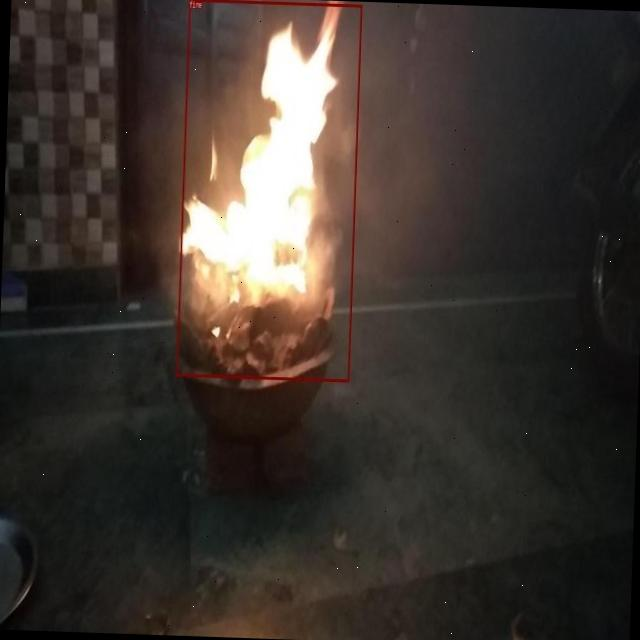fire: (176, 0, 362, 381)
